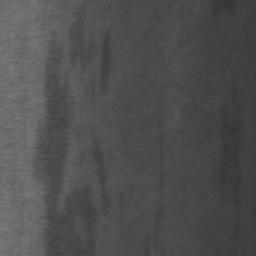Inclusion: (33, 42, 96, 256), (101, 27, 113, 79)
